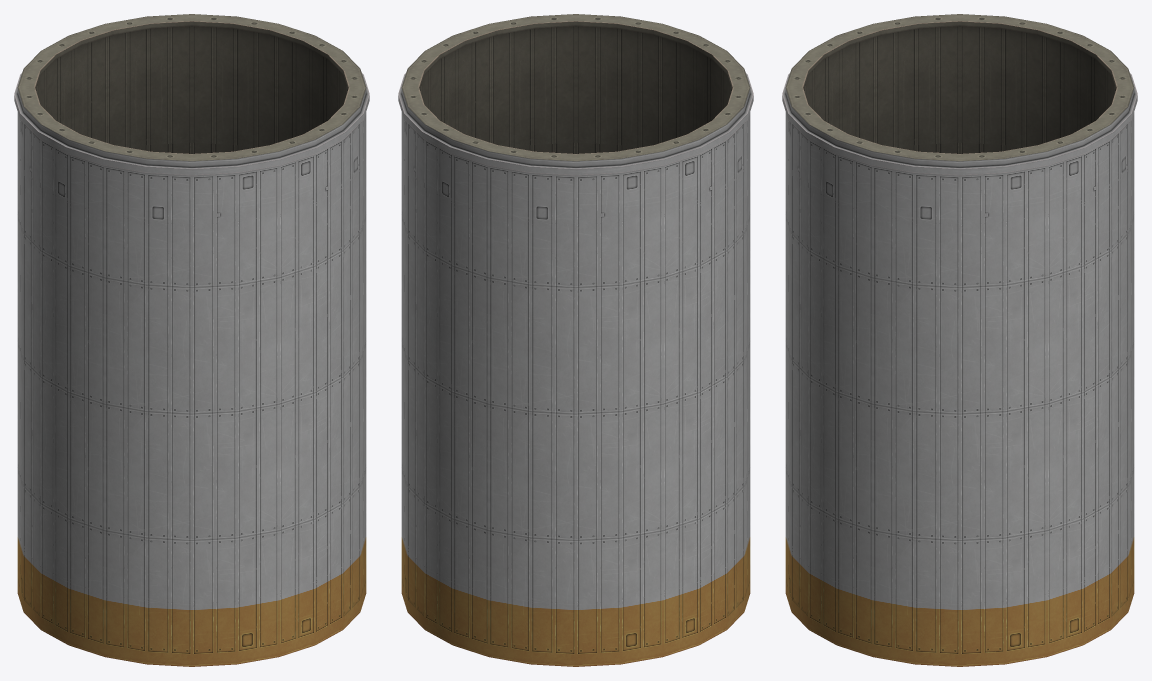
Rendered from interstage.obj.
3 views of the same model, side by side, from view 1: azimuth 30°, elevation 25°; view 2: azimuth 150°, elevation 25°; view 3: azimuth 270°, elevation 25° (orthographic).
Parts seen in each view (by area): view 1: interstage; view 2: interstage; view 3: interstage.
Boxes of the visible parts, x1=… form: interstage: x1=14, y1=14, x2=369, y2=666; interstage: x1=398, y1=14, x2=753, y2=666; interstage: x1=782, y1=14, x2=1137, y2=666.
Size of the model in its own units: 2.55 by 4 by 2.55.
Materials: 1 (1 with a texture image).
